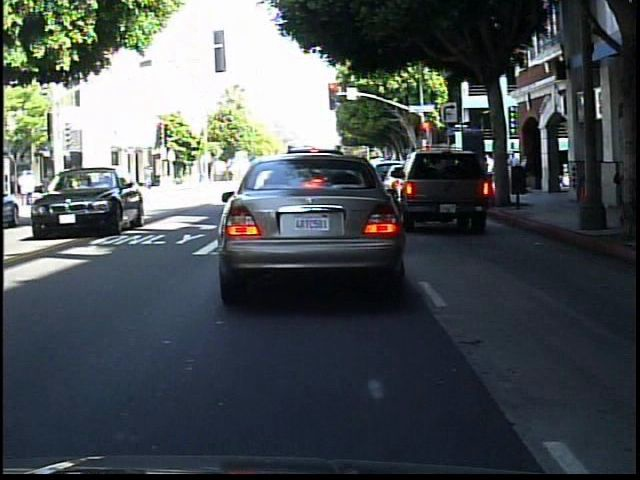person: (590, 142, 612, 217), (618, 141, 639, 219), (69, 161, 86, 199), (140, 159, 157, 192), (60, 163, 73, 206), (42, 168, 56, 206)
